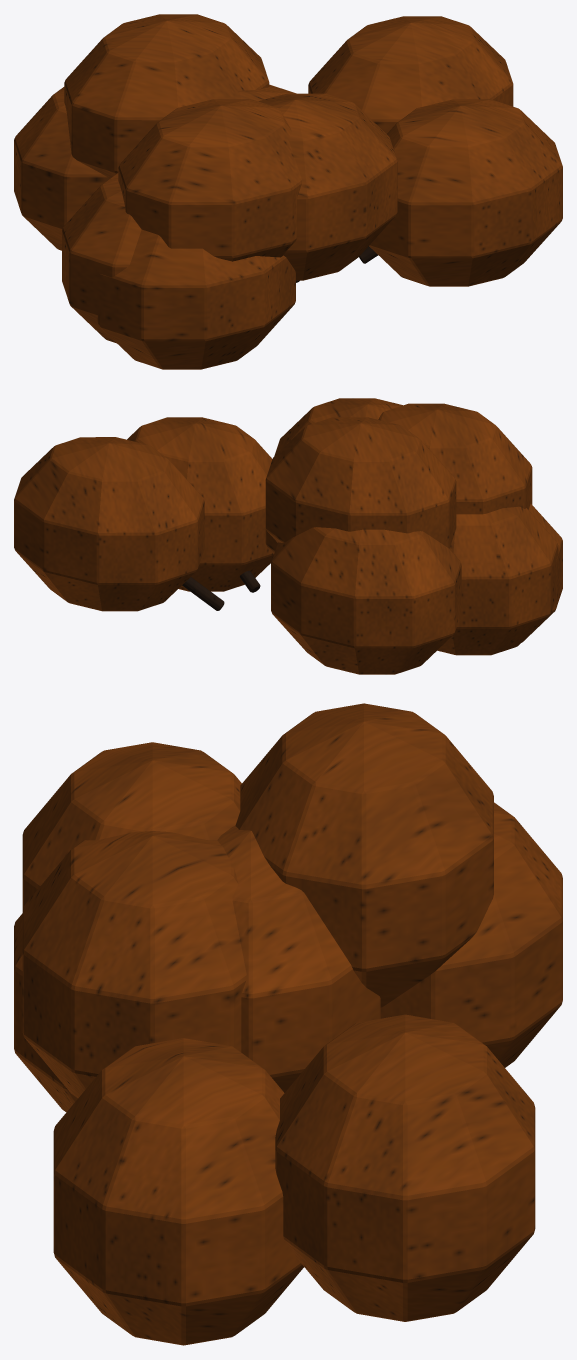
Rendered from PROP-232976AA95F2_lod1.glb.
The picture shows the model from 3 angles, top to bottom: view 1: azimuth 30°, elevation 25°; view 2: azimuth 150°, elevation 25°; view 3: azimuth 270°, elevation 25°; orthographic projection. The views are drawn at different scales.
Visible parts, largest first — view 1: foliage.012; view 2: foliage.012, plant_stem.012; view 3: foliage.012.
Boxes of the visible parts, x1=… form: foliage.012: x1=14, y1=14, x2=562, y2=369; foliage.012: x1=14, y1=398, x2=562, y2=674; plant_stem.012: x1=182, y1=570, x2=260, y2=610; foliage.012: x1=14, y1=703, x2=562, y2=1345.
Bounding box in the file's own units: 1.51 × 0.8023 × 0.9176.
2 materials, 2 textured.
